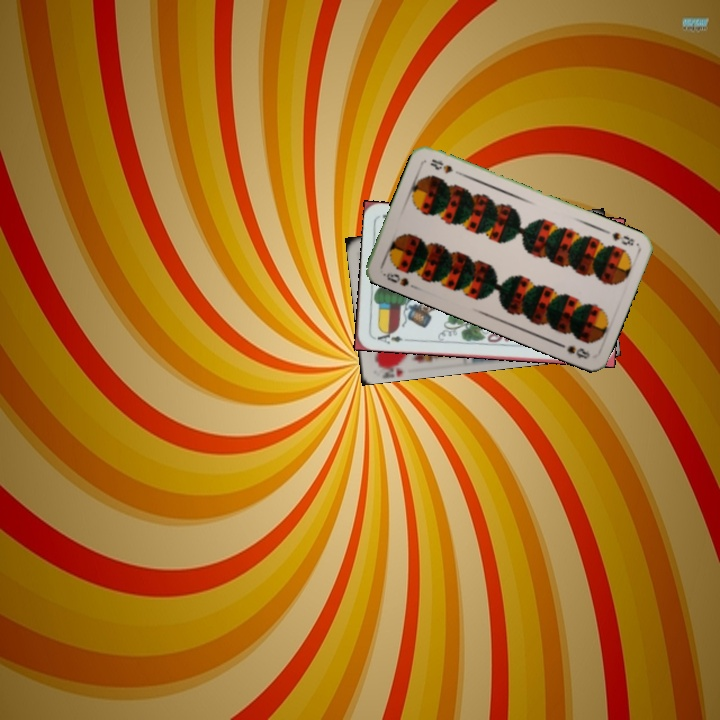EA: (370, 327, 405, 346)
HK: (374, 356, 406, 378)
S8: (379, 269, 411, 289), (608, 228, 637, 249)
